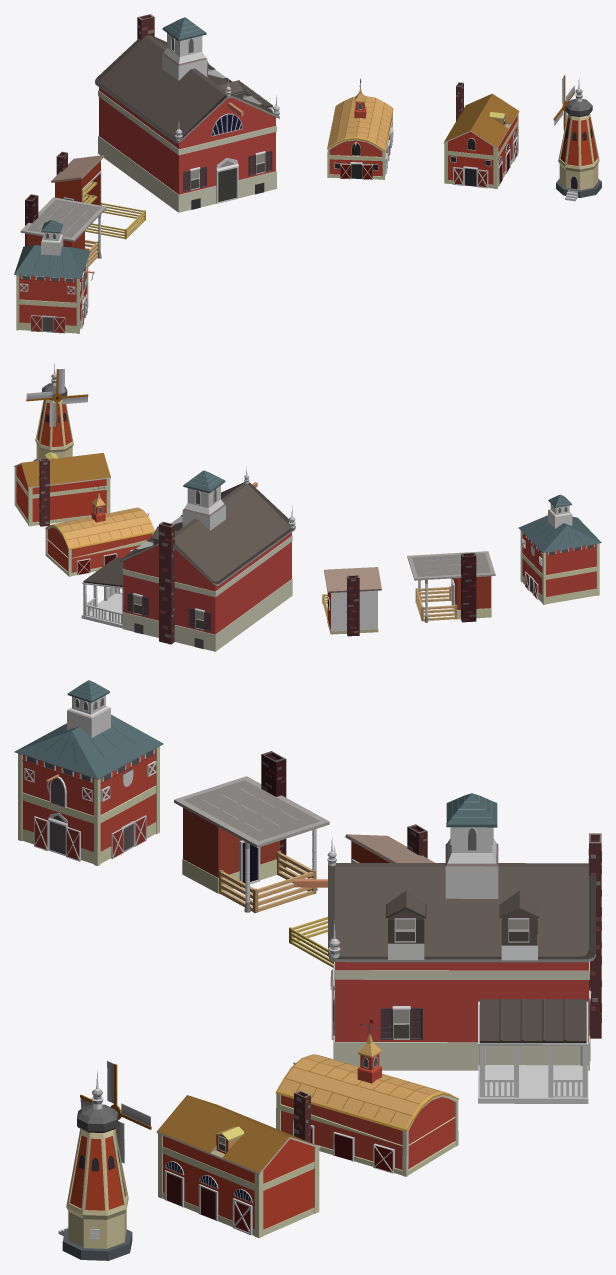
Rendered from Farm_Pack2.fbx.
3 renders of one model, top to bottom at view 1: azimuth 30°, elevation 25°; view 2: azimuth 150°, elevation 25°; view 3: azimuth 270°, elevation 25°, orthographic. The views are drawn at different scales.
Visible parts, largest first — view 1: Cube.004, Cube.009, Cube.022, Cube.003, Cylinder, Cube.001, Cube.002; view 2: Cube.004, Cube.009, Cube.022, Cube.003, Cube.002, Cube.001, Cylinder; view 3: Cube.004, Cube.009, Cube.022, Cube.003, Cube.002, Cylinder, Cube.001.
Part boxes in pixels (x1,y1,x2,y2): Cube.004: [95, 14, 279, 212]; Cube.009: [14, 220, 94, 333]; Cube.022: [443, 82, 519, 188]; Cube.003: [327, 78, 393, 179]; Cylinder: [553, 75, 601, 201]; Cube.001: [51, 151, 145, 239]; Cube.002: [20, 194, 106, 266]; Cube.004: [81, 466, 295, 651]; Cube.009: [518, 494, 601, 604]; Cube.022: [14, 452, 110, 526]; Cube.003: [45, 484, 154, 576]; Cube.002: [407, 551, 495, 622]; Cube.001: [322, 567, 381, 636]; Cylinder: [26, 363, 88, 461]; Cube.004: [294, 793, 601, 1103]; Cube.009: [14, 680, 163, 866]; Cube.022: [156, 1090, 320, 1237]; Cube.003: [275, 1019, 458, 1176]; Cube.002: [174, 751, 329, 913]; Cylinder: [58, 1061, 151, 1260]; Cube.001: [289, 824, 434, 967].
Bounding box in the file's own units: 19174 × 4710 × 10472.
